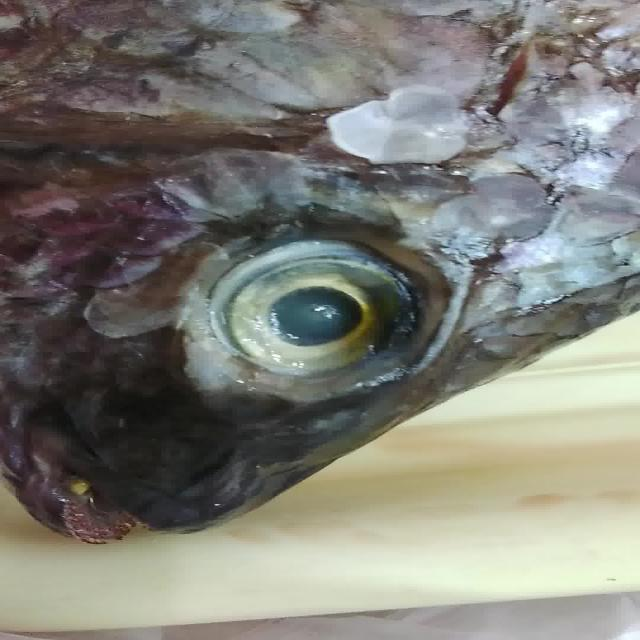Non-Fresh: (172, 208, 448, 422)
